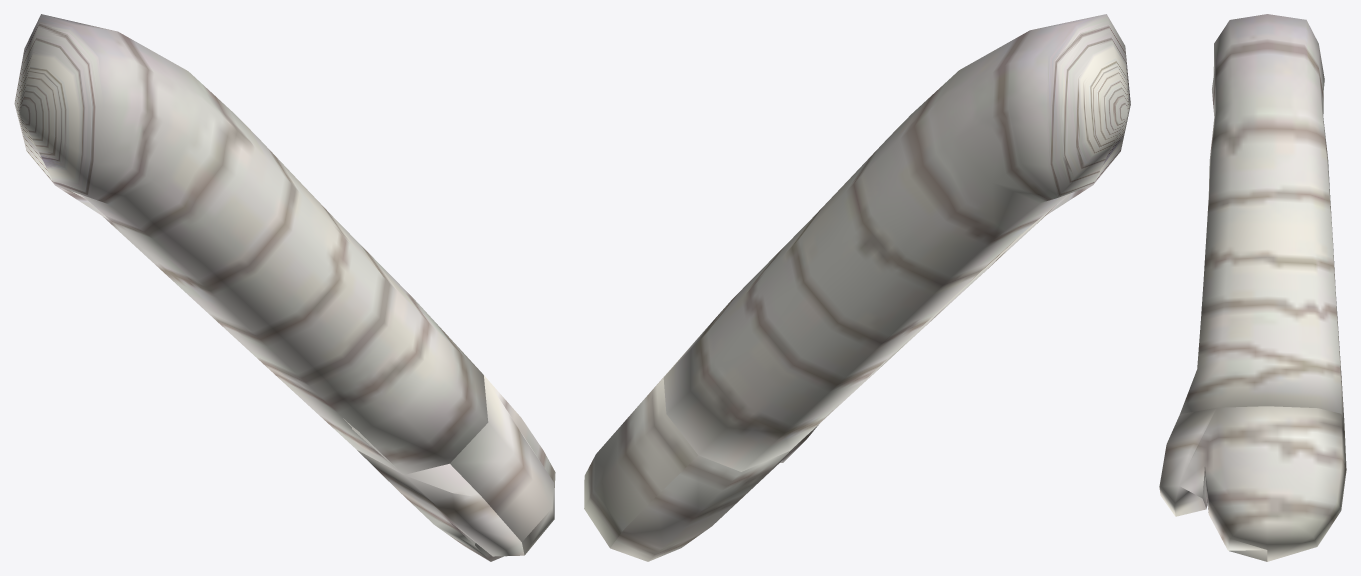
The model's file is left_arm-2_townie_spooky_mel_mummy.blend.obj.
3 views of the same model, side by side, from view 1: azimuth 30°, elevation 25°; view 2: azimuth 150°, elevation 25°; view 3: azimuth 270°, elevation 25° (orthographic). The views are drawn at different scales.
Parts seen in each view (by area): view 1: left_arm-2_townie_spooky_mel_mummy.blend_defaultobject.002_meshI; view 2: left_arm-2_townie_spooky_mel_mummy.blend_defaultobject.002_meshI; view 3: left_arm-2_townie_spooky_mel_mummy.blend_defaultobject.002_meshI.
Part boxes in pixels (bbox=[...]): left_arm-2_townie_spooky_mel_mummy.blend_defaultobject.002_meshI: bbox=[14, 14, 555, 561]; left_arm-2_townie_spooky_mel_mummy.blend_defaultobject.002_meshI: bbox=[584, 14, 1130, 561]; left_arm-2_townie_spooky_mel_mummy.blend_defaultobject.002_meshI: bbox=[1159, 14, 1346, 561].
Size of the model in its own units: 0.3909 by 0.446 by 0.1832.
1 material, 1 textured.
